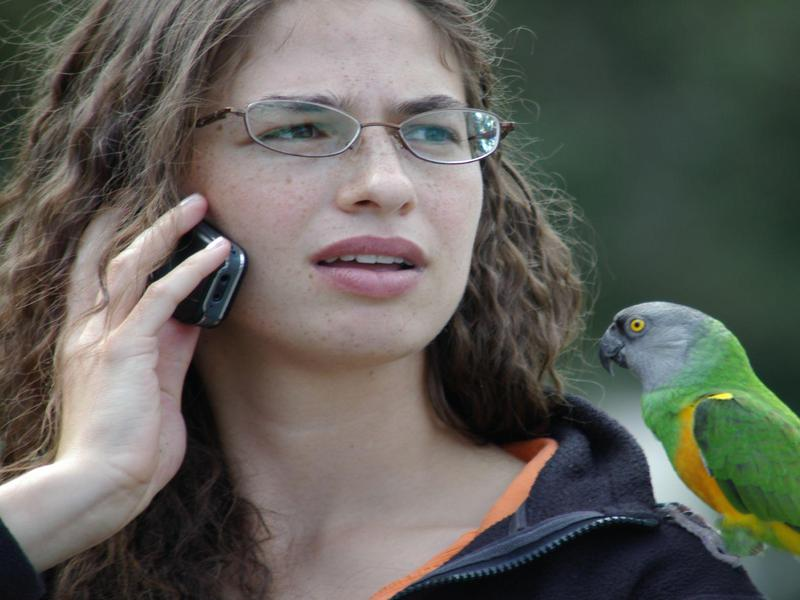person: (1, 1, 739, 590)
